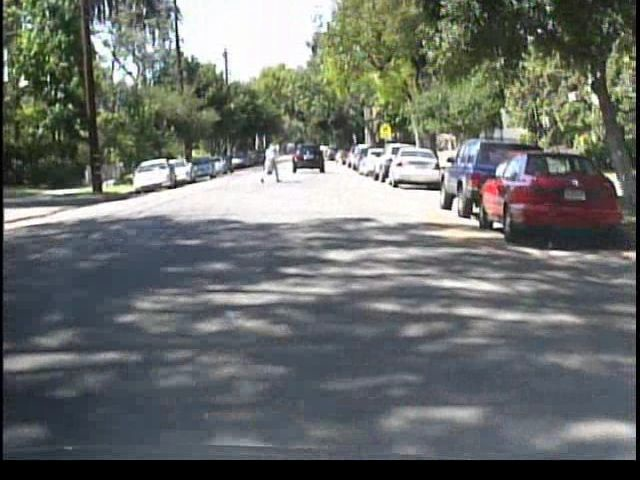person: (259, 128, 284, 176)
